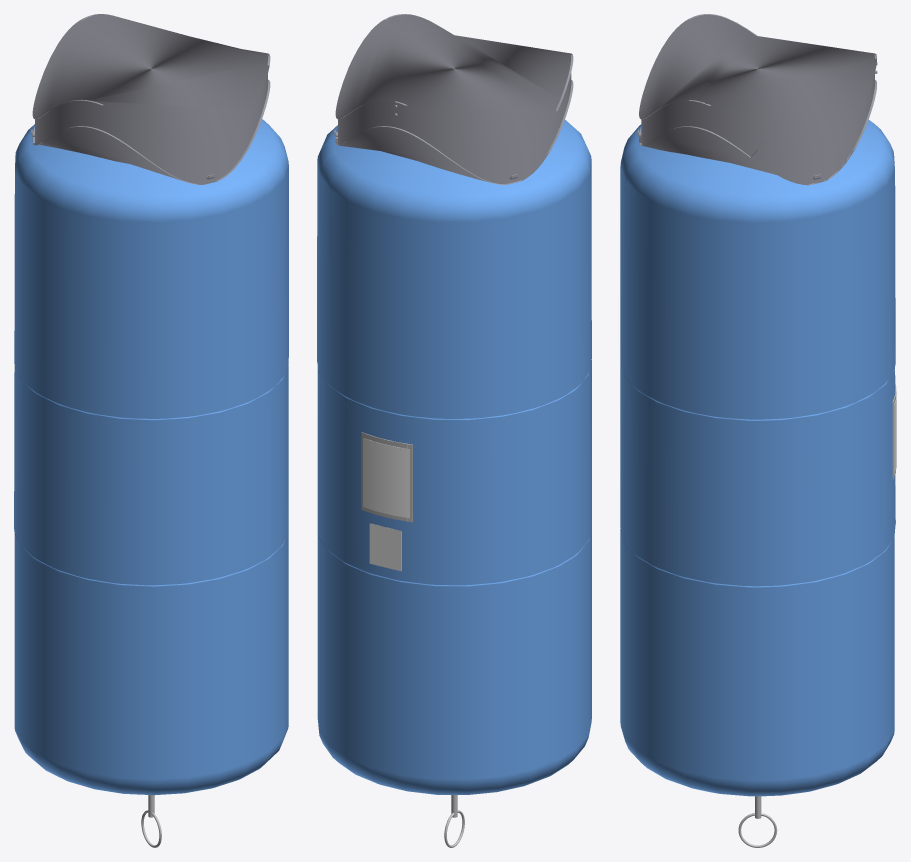
Rendered from Compresso Connect.obj.
The picture shows the model from 3 angles, left to right: view 1: azimuth 30°, elevation 25°; view 2: azimuth 150°, elevation 25°; view 3: azimuth 270°, elevation 25°; orthographic projection.
Parts seen in each view (by area): view 1: vessel_712_2005_4; view 2: vessel_712_2005_4; view 3: vessel_712_2005_4.
Boxes of the visible parts, <box> form: vessel_712_2005_4: <box>14,14,288,817</box>; vessel_712_2005_4: <box>317,14,591,817</box>; vessel_712_2005_4: <box>620,14,896,818</box>.
Bounding box in the file's own units: 740 × 2340 × 742.
